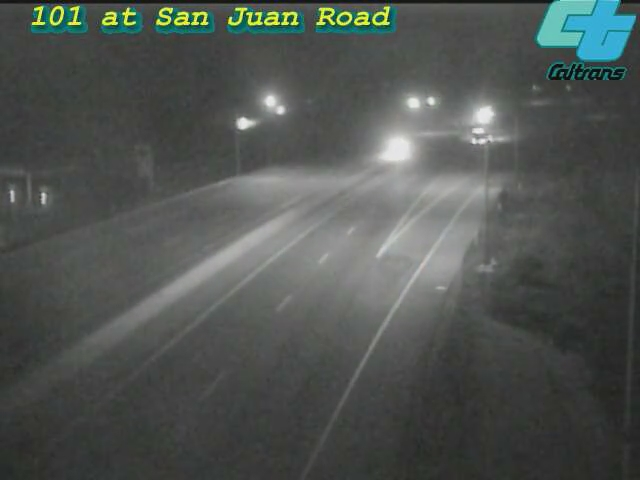vehicle: (374, 123, 424, 173), (455, 91, 505, 141), (453, 113, 503, 163)
